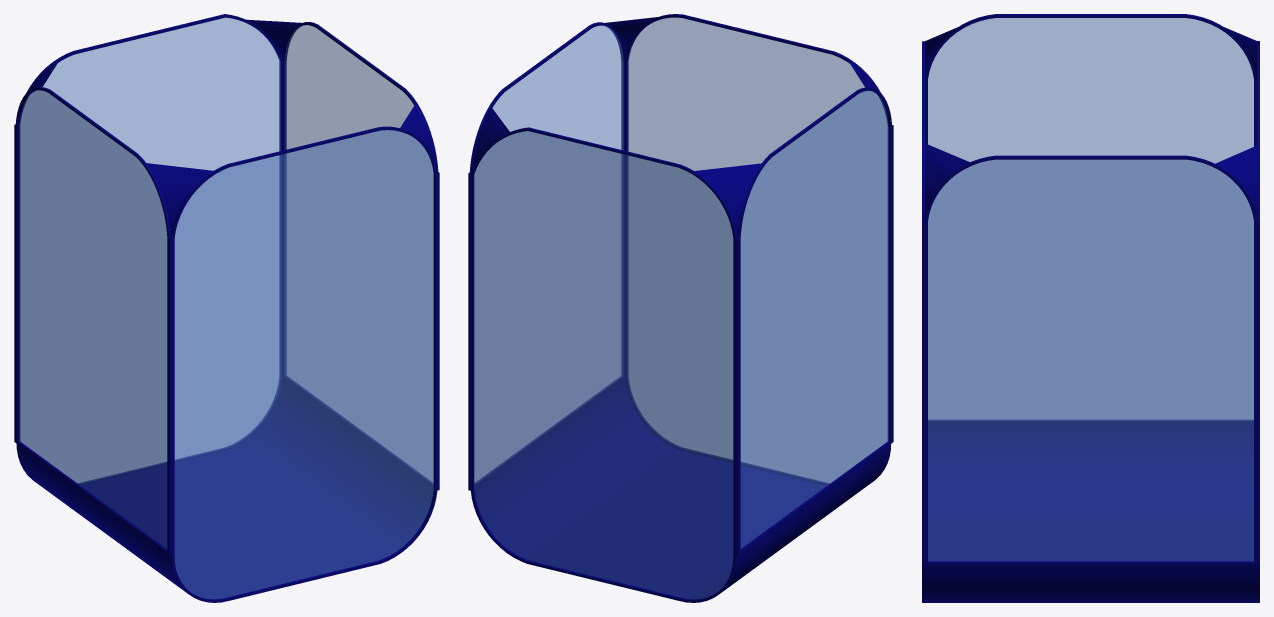
Rendered from hamper.fbx.
3 renders of one model, left to right at view 1: azimuth 30°, elevation 25°; view 2: azimuth 150°, elevation 25°; view 3: azimuth 270°, elevation 25°, orthographic. The views are drawn at different scales.
Parts seen in each view (by area): view 1: Hamp1; view 2: Hamp1; view 3: Hamp1.
Part boxes in pixels (x1,y1,x2,y2): Hamp1: (14,14,439,602); Hamp1: (468,14,893,602); Hamp1: (922,14,1259,602).
Size of the model in its own units: 0.3619 by 0.5588 by 0.362.
